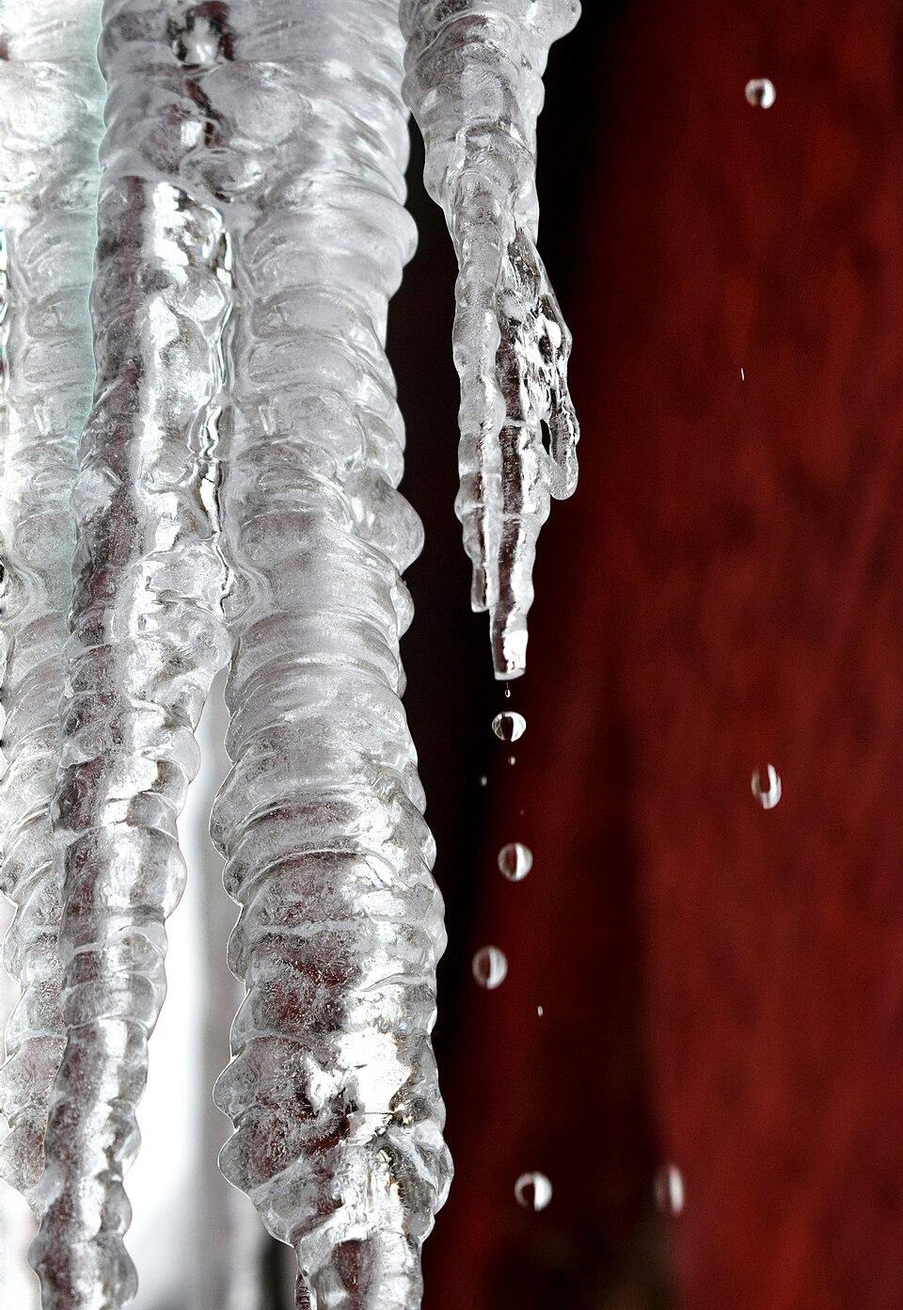water drop: (642, 1162, 696, 1222), (743, 753, 789, 816), (468, 941, 511, 993), (491, 840, 539, 883), (515, 1172, 553, 1218), (489, 708, 531, 748), (745, 73, 778, 112)
